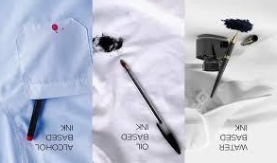ink: (223, 17, 253, 33), (95, 36, 122, 52), (53, 24, 59, 30)
